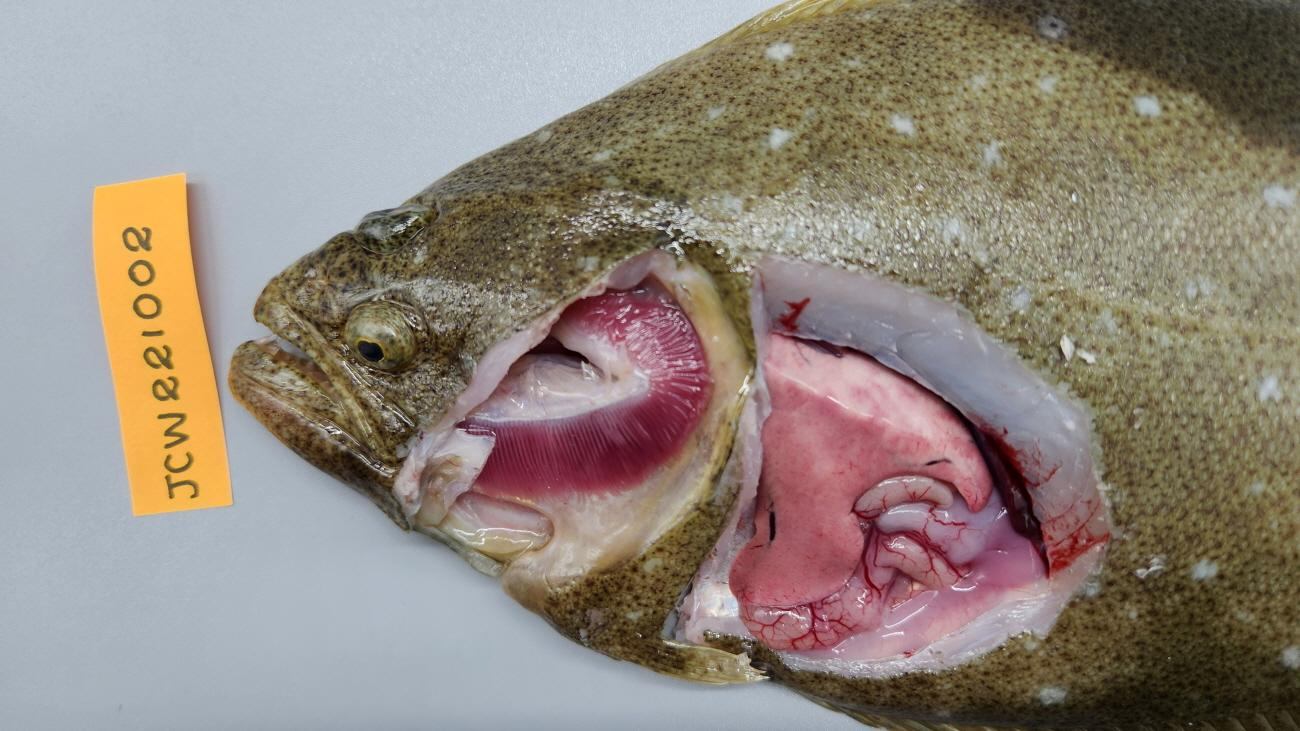POGIN: (457, 289, 713, 502)
POLIN: (729, 334, 992, 608)
